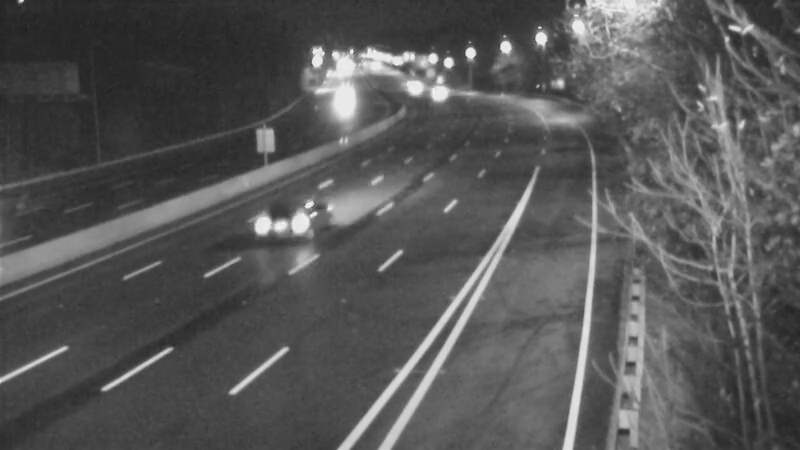vehicle: (248, 174, 328, 254), (388, 61, 438, 111), (406, 65, 456, 115), (318, 79, 368, 129)
